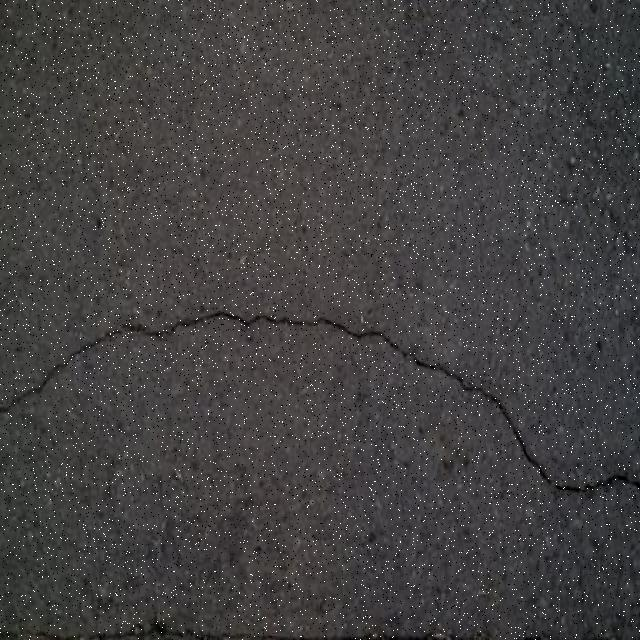minor crack: (494, 415, 634, 496), (551, 478, 591, 490)
moderate crack: (398, 344, 538, 464), (7, 619, 563, 640), (400, 627, 473, 640), (85, 631, 152, 640), (30, 632, 71, 640)
severe crack: (3, 321, 159, 416), (154, 310, 278, 334), (308, 316, 398, 347)
